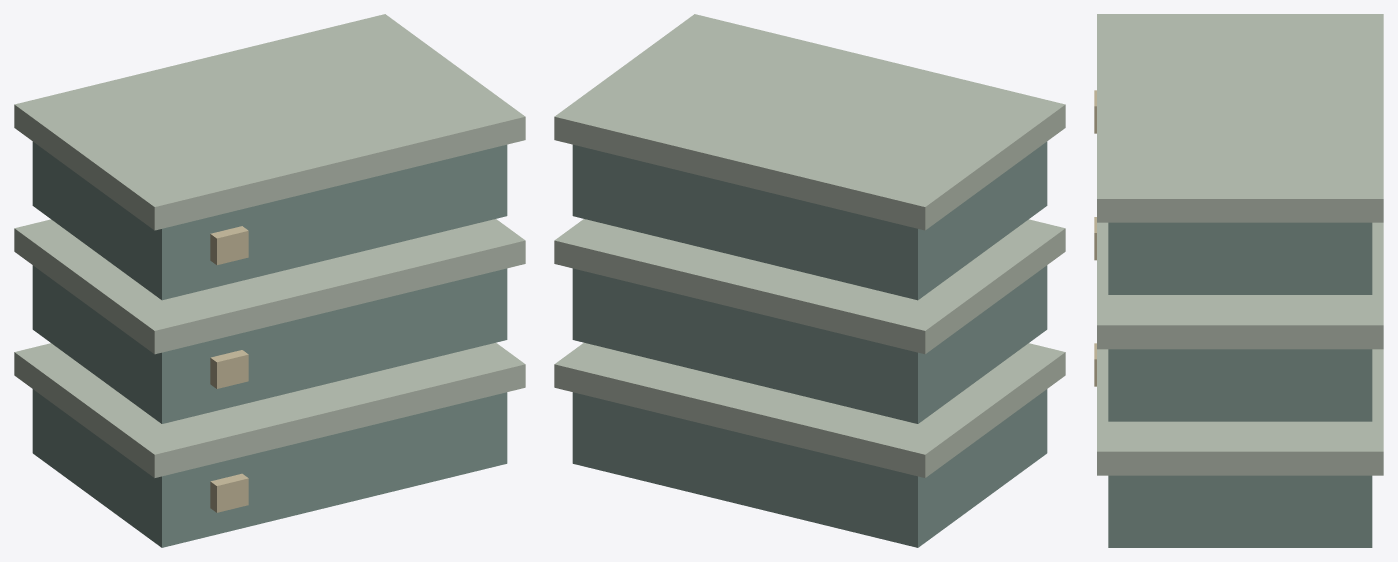
Rendered from skill_sql.glb.
The picture shows the model from 3 angles, left to right: view 1: azimuth 30°, elevation 25°; view 2: azimuth 150°, elevation 25°; view 3: azimuth 270°, elevation 25°; orthographic projection. The views are drawn at different scales.
Visible parts, largest first — view 1: skill_sql; view 2: skill_sql; view 3: skill_sql.
Part boxes in pixels (x1,y1,x2,y2): skill_sql: (14, 14, 525, 547); skill_sql: (554, 14, 1065, 547); skill_sql: (1094, 14, 1383, 547).
Size of the model in its own units: 1.16 by 1.04 by 0.7675.
